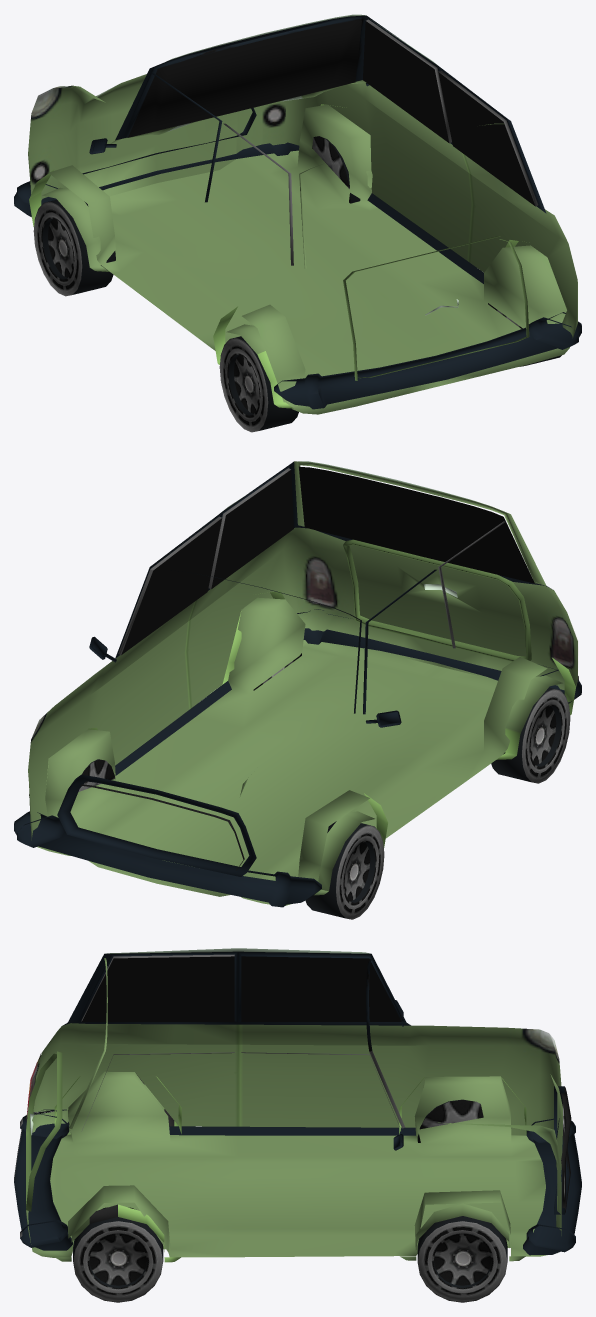
3 views of the same model, one above another, from view 1: azimuth 30°, elevation 25°; view 2: azimuth 150°, elevation 25°; view 3: azimuth 270°, elevation 25° (orthographic). The views are drawn at different scales.
Parts seen in each view (by area): view 1: CityCar_01_005-0, tyre3-2, tyre1-1, tyre3-5; view 2: CityCar_01_005-0, tyre3-2, tyre1-1; view 3: CityCar_01_005-0, tyre3-5, tyre2-4, tyre3-2.
Boxes of the visible parts, x1=… form: CityCar_01_005-0: x1=14, y1=14, x2=581, y2=414; tyre3-2: x1=33, y1=199, x2=115, y2=296; tyre1-1: x1=219, y1=336, x2=298, y2=432; tyre3-5: x1=312, y1=136, x2=360, y2=203; CityCar_01_005-0: x1=14, y1=461, x2=581, y2=907; tyre3-2: x1=305, y1=821, x2=384, y2=919; tyre1-1: x1=491, y1=687, x2=570, y2=783; CityCar_01_005-0: x1=14, y1=948, x2=581, y2=1262; tyre3-5: x1=417, y1=1216, x2=507, y2=1302; tyre2-4: x1=73, y1=1207, x2=163, y2=1302; tyre3-2: x1=417, y1=1099, x2=483, y2=1142.
Size of the model in its own units: 0.2479 by 0.2033 by 0.4193.
Materials: 3 (3 with a texture image).
